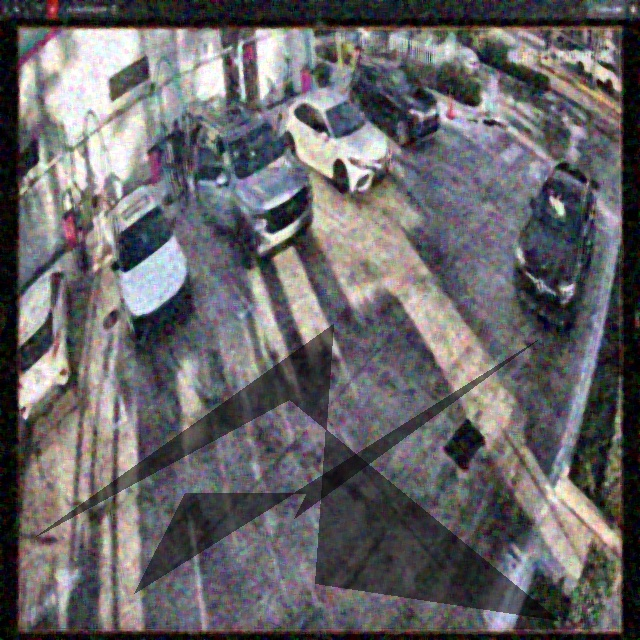Car: (189, 97, 310, 270), (108, 186, 189, 347), (281, 90, 391, 191)
